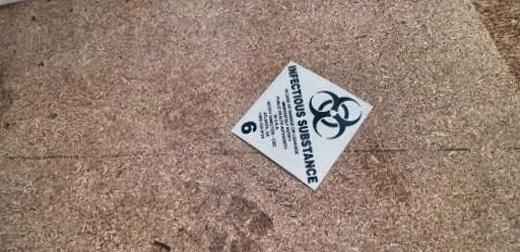infectious-substance: (225, 59, 374, 192)
